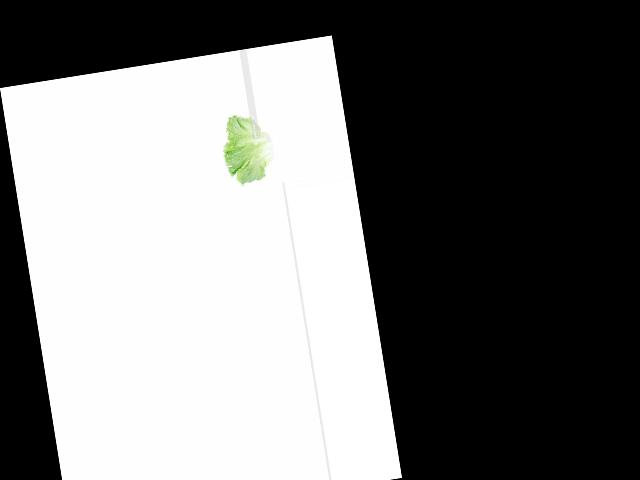lettuce: (219, 112, 279, 186)
